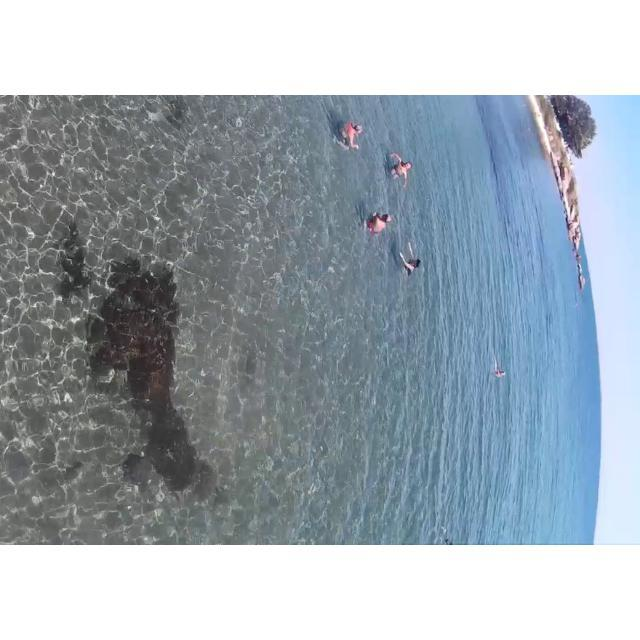human: (389, 149, 421, 197), (336, 105, 363, 158), (398, 241, 424, 289), (367, 207, 394, 242)
